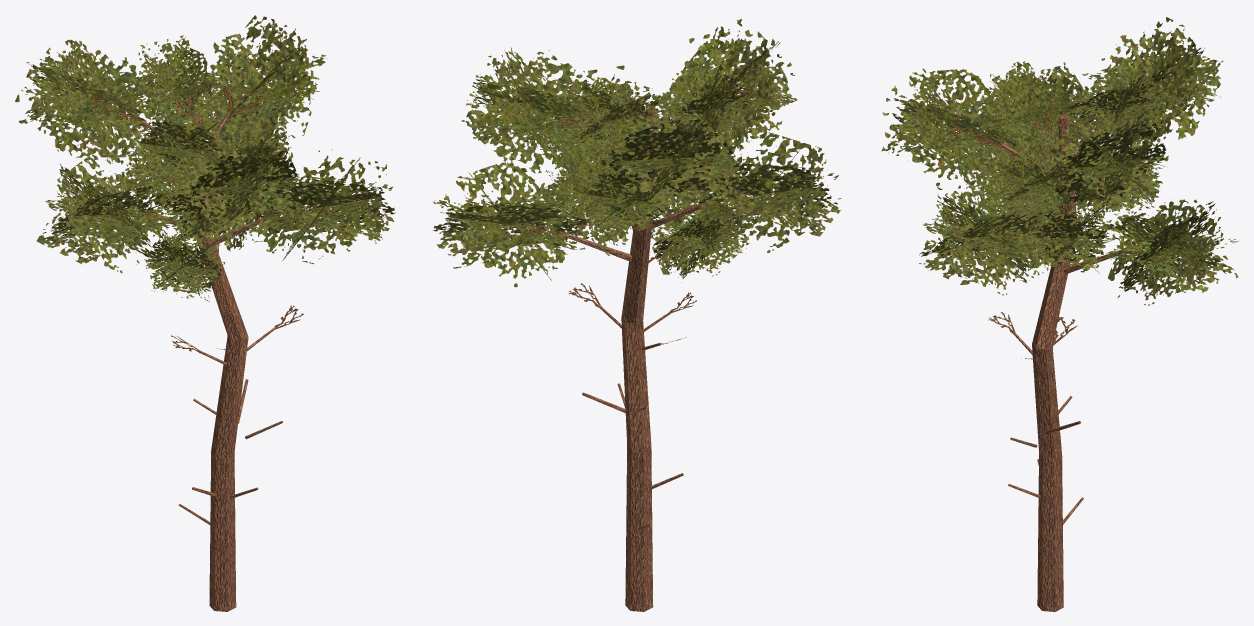
The model's file is Tree 2.fbx.
3 views of the same model, side by side, from view 1: azimuth 30°, elevation 25°; view 2: azimuth 150°, elevation 25°; view 3: azimuth 270°, elevation 25° (orthographic). The views are drawn at different scales.
Parts seen in each view (by area): view 1: Cylinder; view 2: Cylinder; view 3: Cylinder.
Boxes of the visible parts, bbox=[...] form: Cylinder: bbox=[15, 15, 395, 611]; Cylinder: bbox=[433, 19, 841, 611]; Cylinder: bbox=[881, 17, 1238, 611].
Size of the model in its own units: 5.55 by 9.05 by 5.62.
